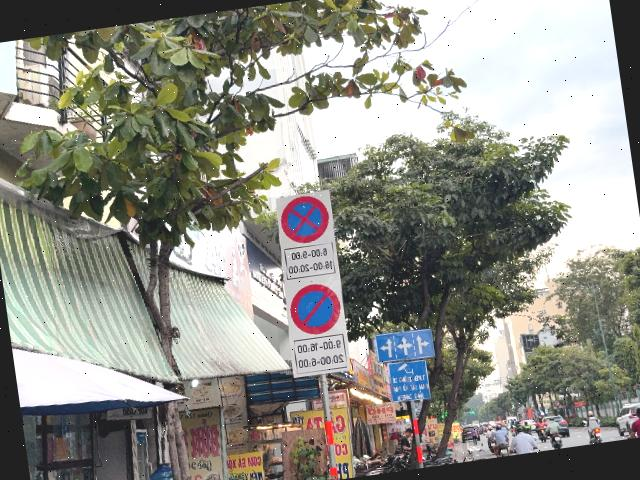cam-do-xe: (286, 280, 344, 336)
cam-dung-va-do-xe: (277, 194, 332, 247)
